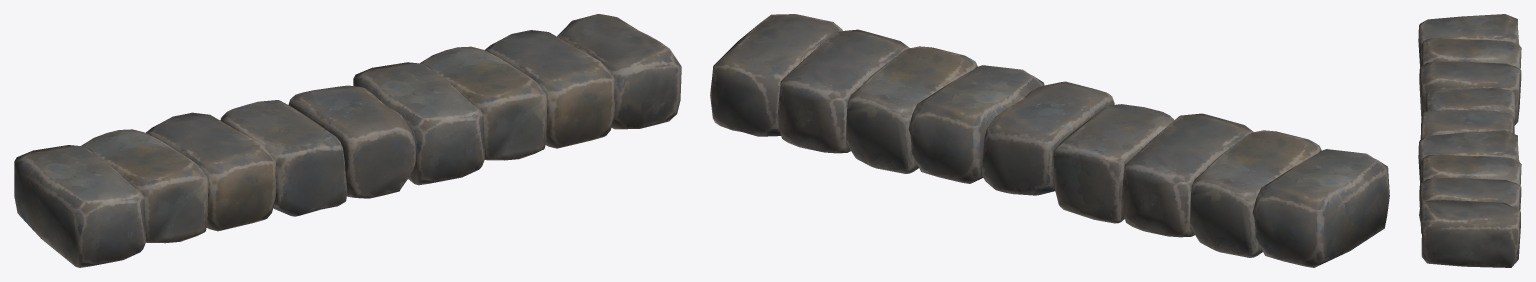
File: mesh_blockRow.fbx
The picture shows the model from 3 angles, left to right: view 1: azimuth 30°, elevation 25°; view 2: azimuth 150°, elevation 25°; view 3: azimuth 270°, elevation 25°; orthographic projection. The views are drawn at different scales.
Parts seen in each view (by area): view 1: Object118; view 2: Object118; view 3: Object118.
Boxes of the visible parts, <box> form: Object118: <box>14,14,681,267</box>; Object118: <box>710,14,1389,267</box>; Object118: <box>1418,14,1521,267</box>.
Bounding box in the file's own units: 411 × 47.81 × 85.64.
